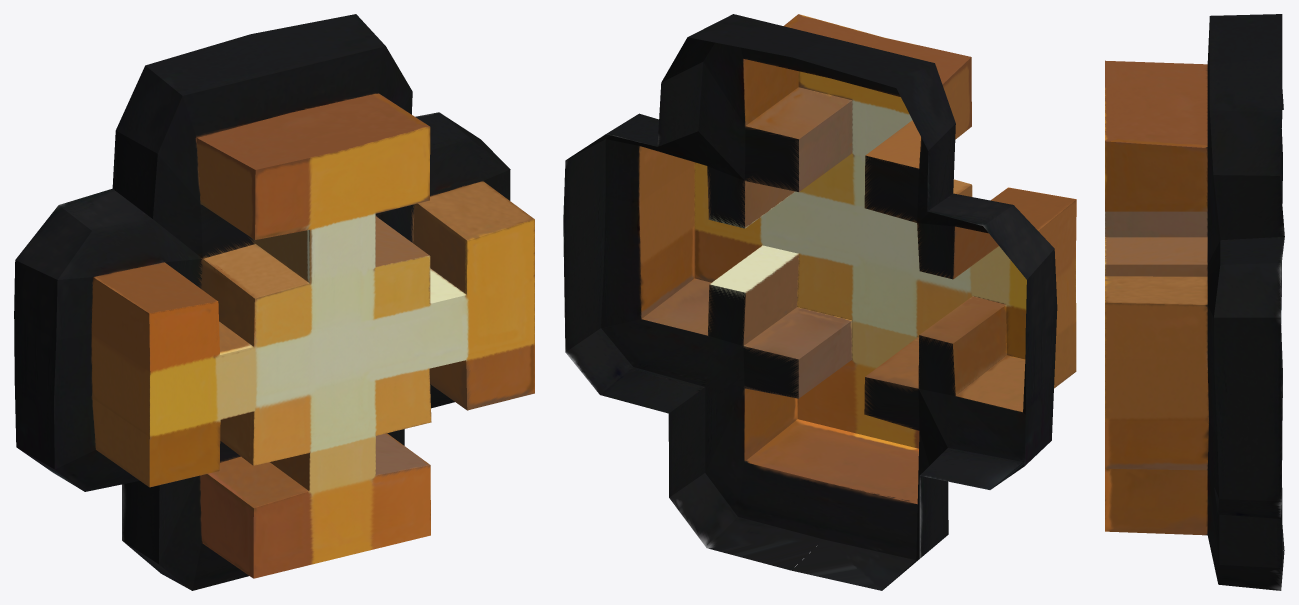
File: armored.fbx
3 views of the same model, side by side, from view 1: azimuth 30°, elevation 25°; view 2: azimuth 150°, elevation 25°; view 3: azimuth 270°, elevation 25° (orthographic). The views are drawn at different scales.
Visible parts, largest first — view 1: Бронированная; view 2: Бронированная; view 3: Бронированная.
Boxes of the visible parts, <box> form: Бронированная: <box>14,14,534,590</box>; Бронированная: <box>563,14,1076,590</box>; Бронированная: <box>1105,14,1284,590</box>.
Size of the model in its own units: 21.96 by 23.25 by 7.69.
1 material, 1 textured.
